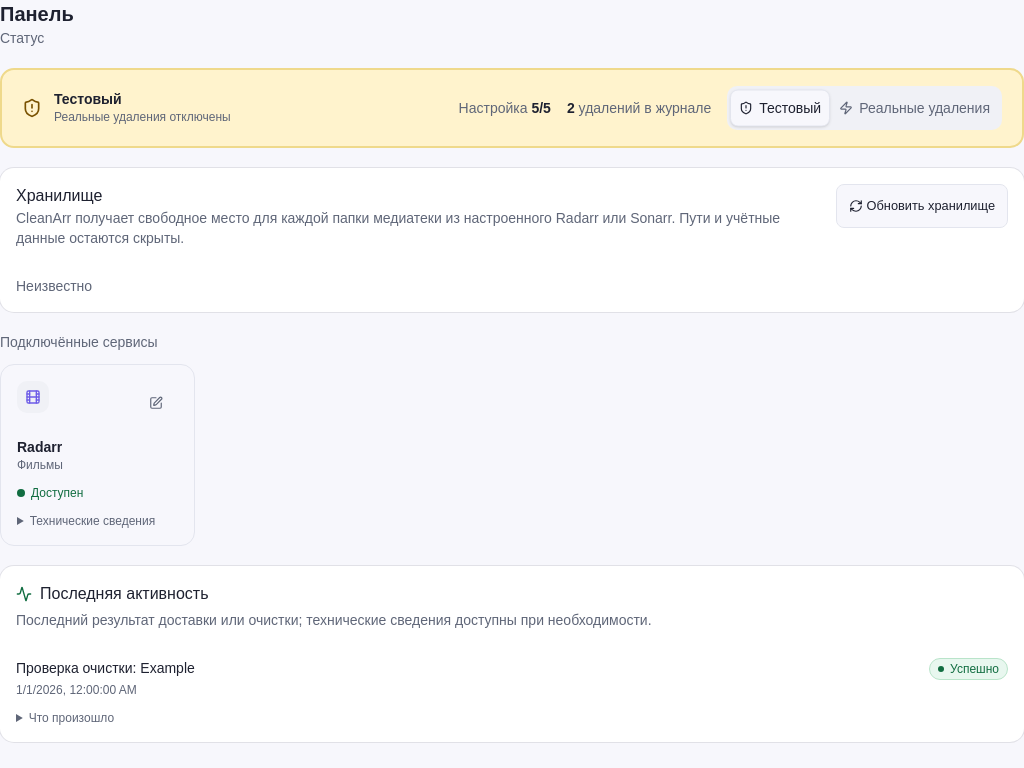
Test case: explains recent skipped actions without exposing raw status keys
Click the heading "Что произошло" at {"x": 71, "y": 718}, box [29,711,114,725]
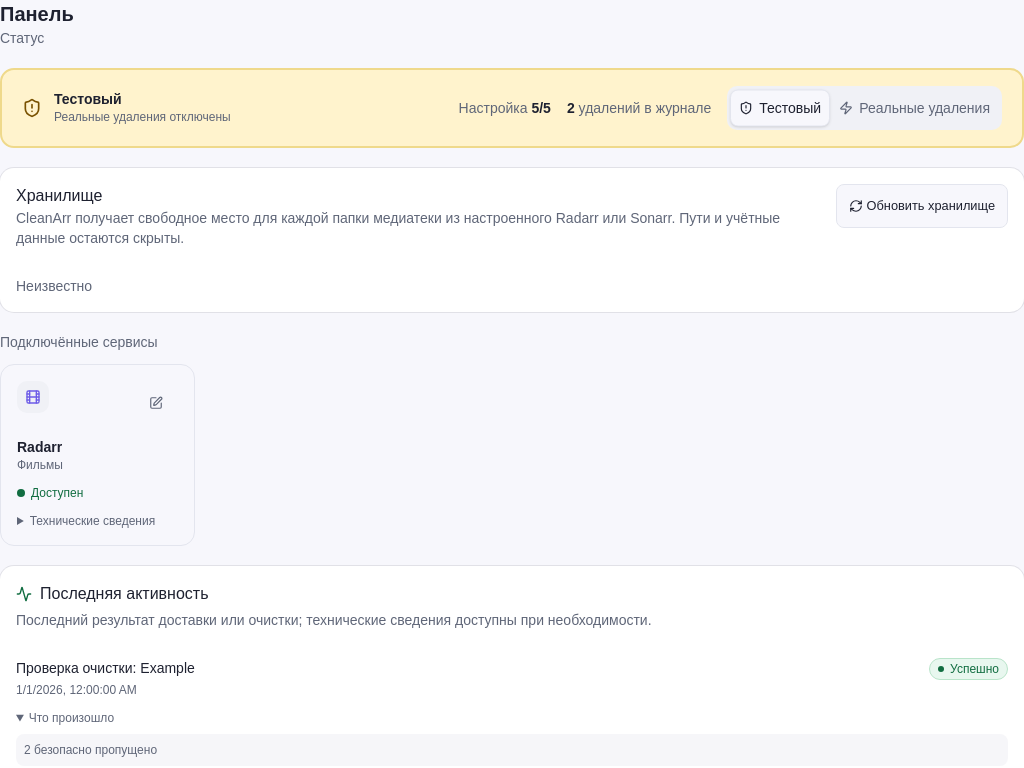
Now the text "2 безопасно пропущено" is shown, box [24,743,157,757]
